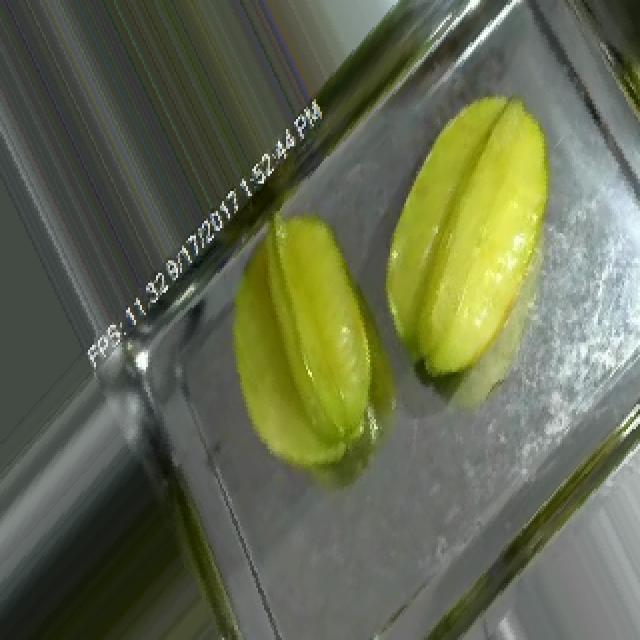fruit: (332, 70, 608, 422), (180, 176, 444, 511)
